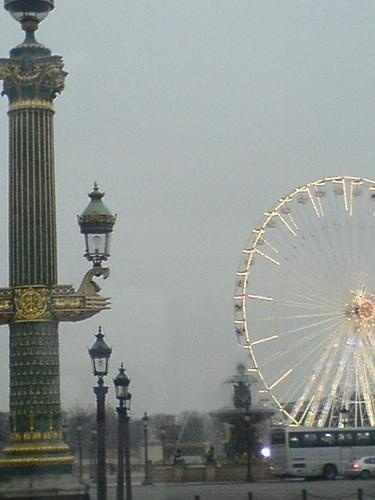bus: (270, 426, 375, 480)
car: (344, 455, 375, 480)
